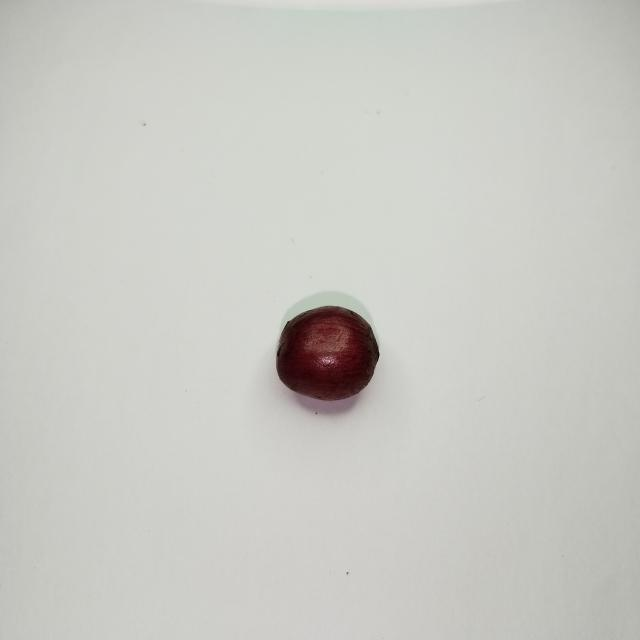Sano: (277, 305, 379, 401)
